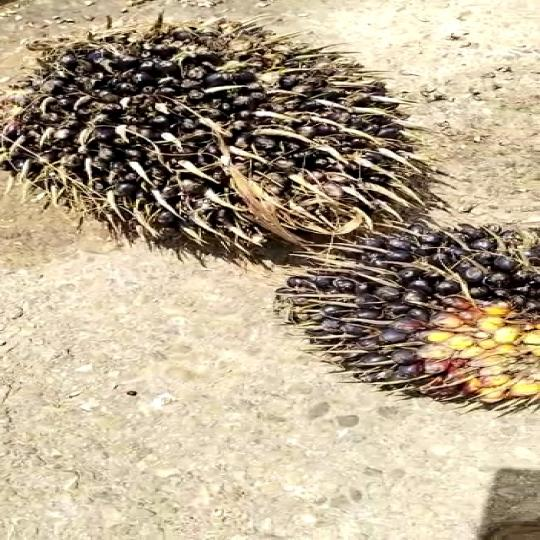mentah: (0, 5, 431, 267), (280, 223, 540, 415)
